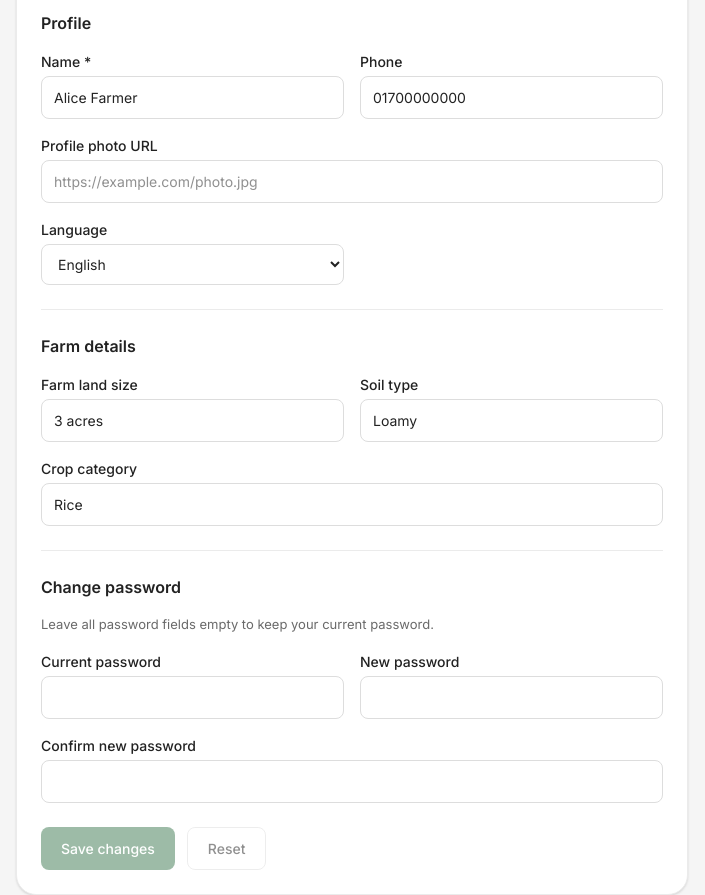
Scenario: SettingsPage › shows local validation errors for invalid password change
This screenshot has width=705, height=895.
(page scrolled)
Step 1. Type "new-password-123" into the password field labelled "New password" → (512, 697), box [360,676,663,718]
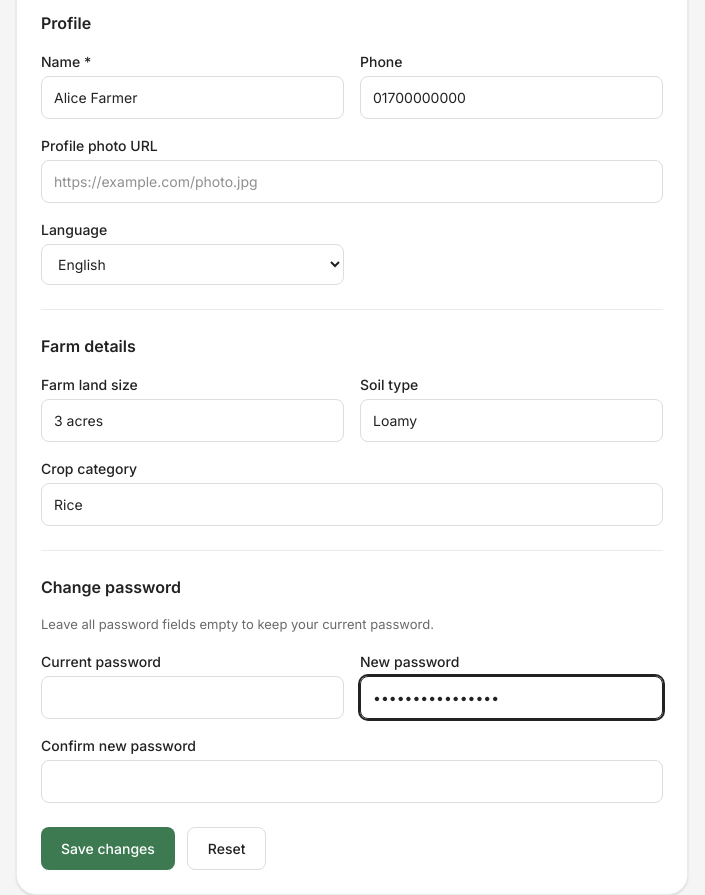
Step 2. Type "different-password-123" into the password field labelled "Confirm new password" → (352, 781), box [41,760,663,802]
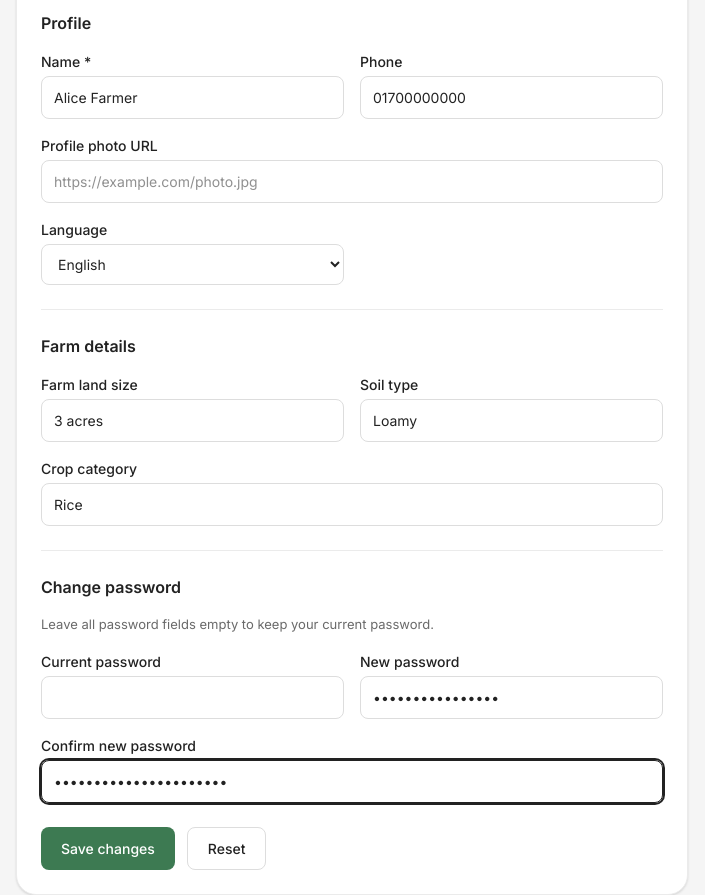
Step 3. Click the button "Save changes" → (108, 848), box [41,826,175,870]
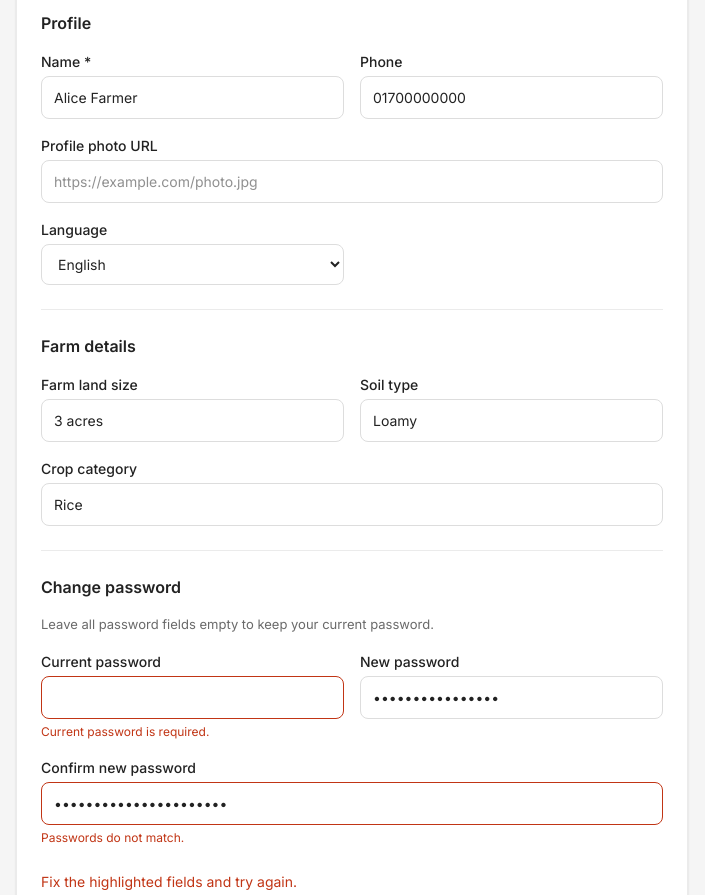
Now the text "Current password is required." is shown, box [41,724,209,738]
Now the text "Passwords do not match." is shown, box [41,830,184,844]
